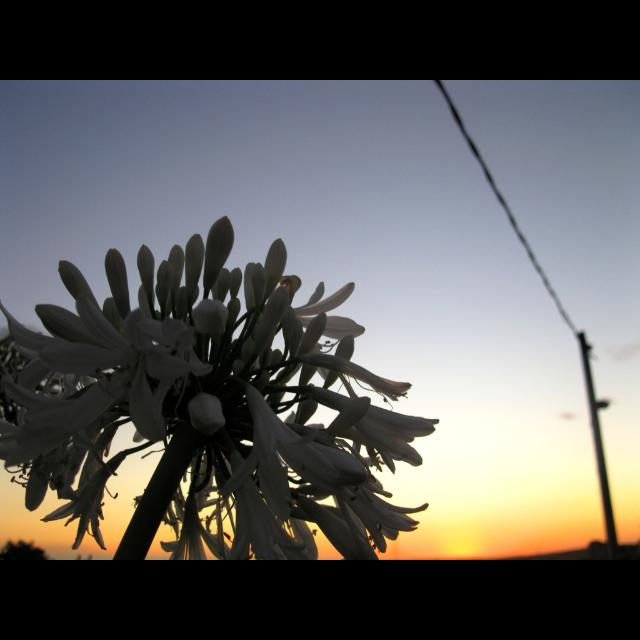Flower: (0, 216, 436, 560), (172, 392, 230, 450)
